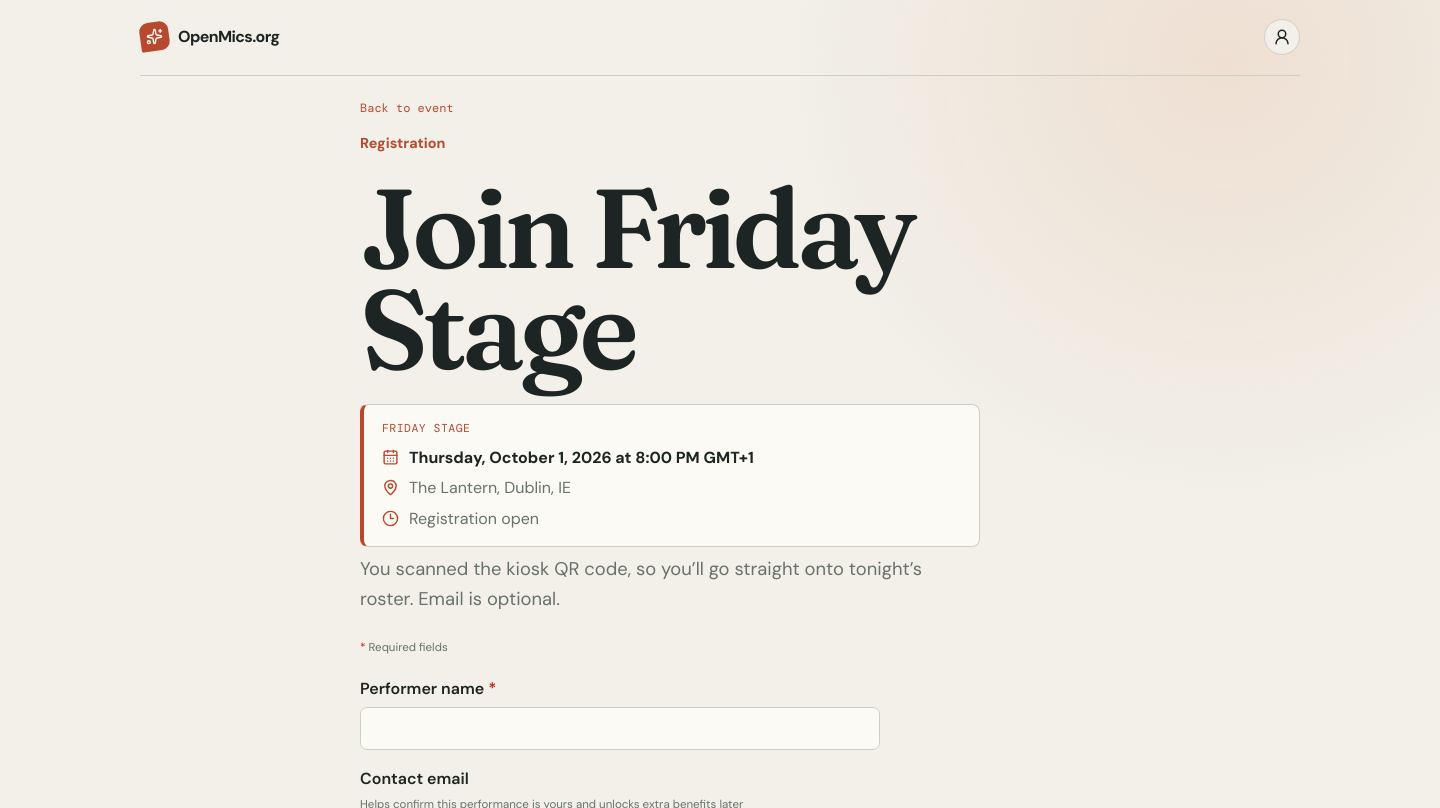
Test: RegistrationPage › accepts an email-less phone sign-up with a kiosk token for an on-the-night-only series
Type "Walk In" into the field labelled "Performer name *".
click(620, 729); type("Walk In")  # box [360,707,880,750]
(page scrolled)
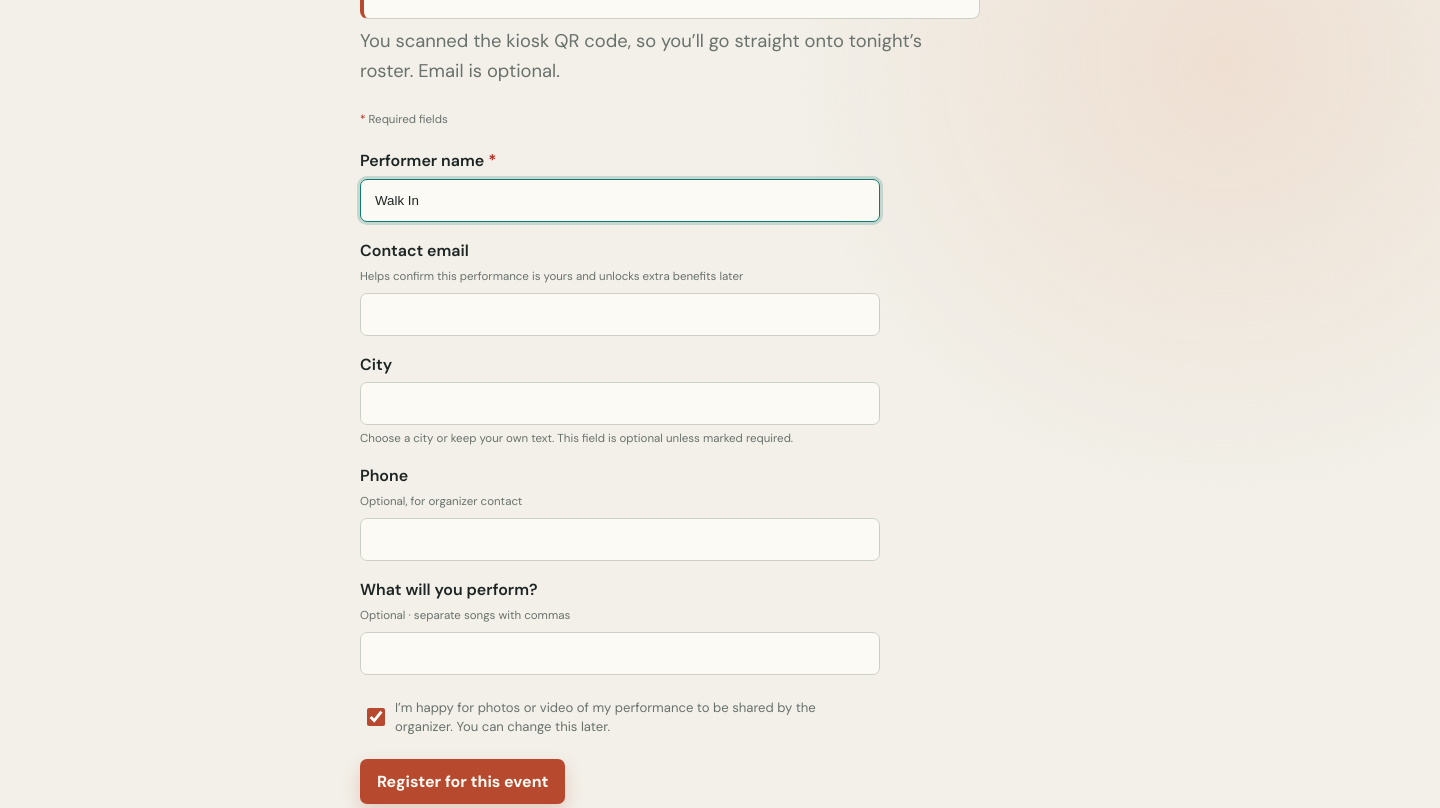
Type "Dub" into the dropdown labelled "City".
click(620, 403); type("Dub")  # box [360,382,880,425]
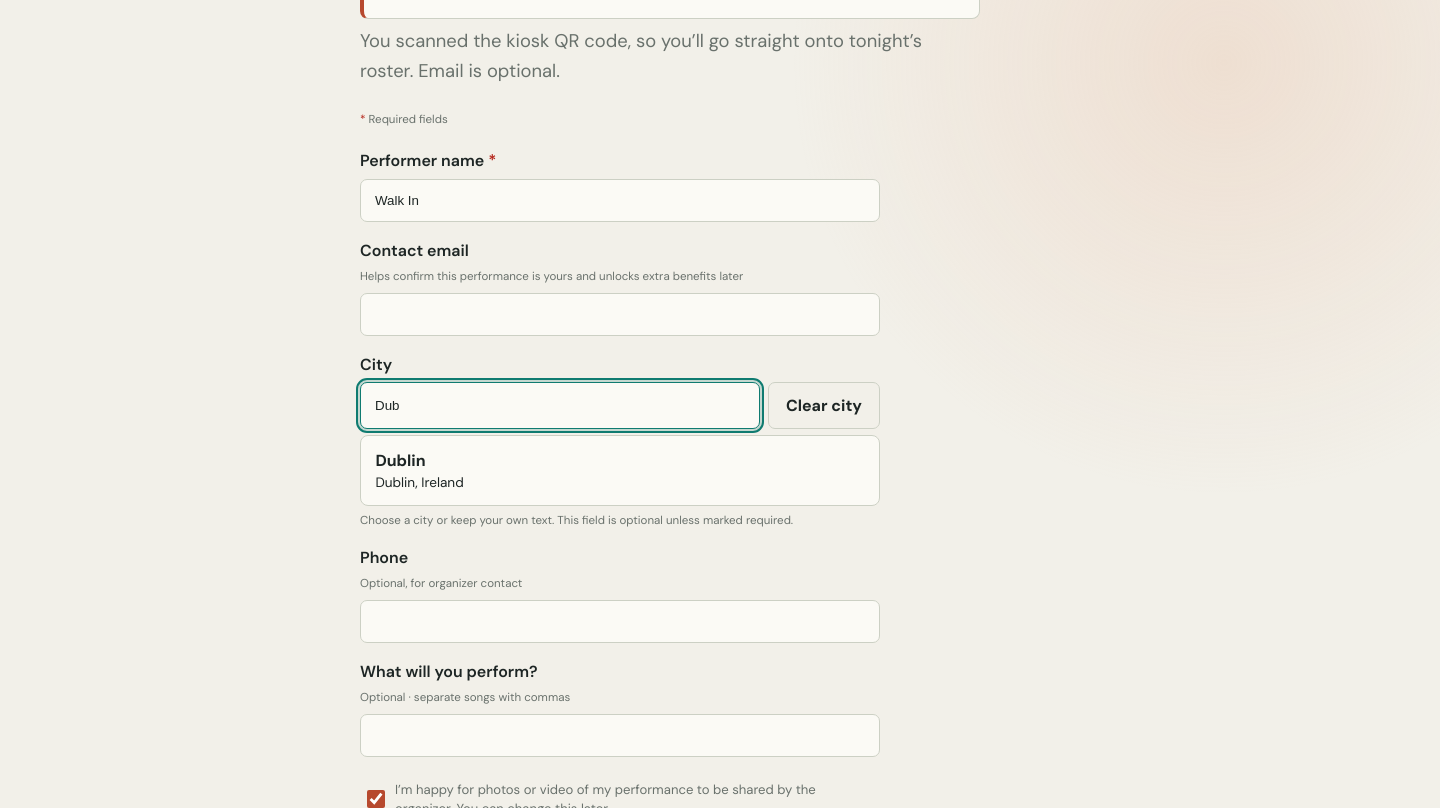
Click the option "Dublin Dublin, Ireland".
click(420, 471)  # box [375,450,464,491]
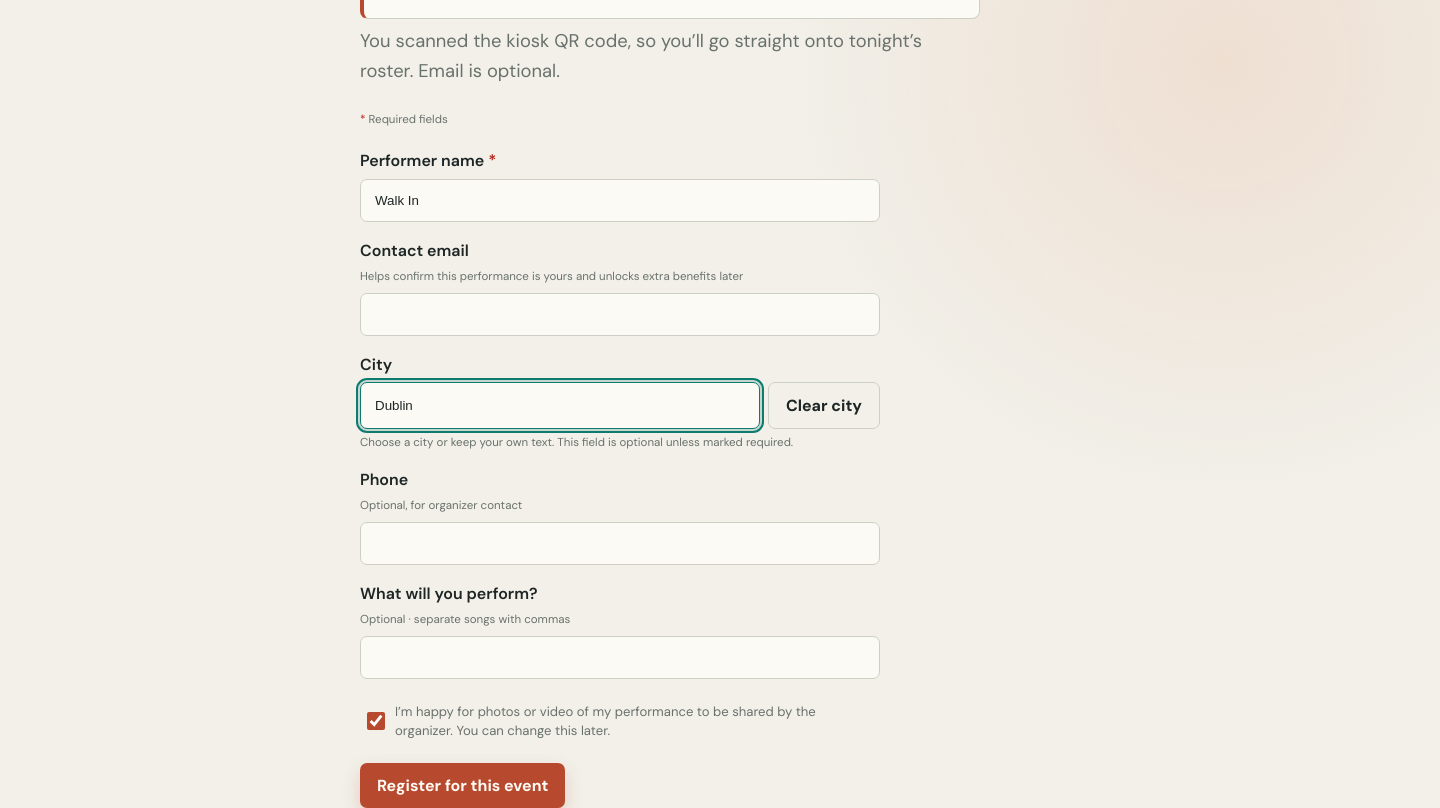
Click the button "Register for this event".
click(463, 786)  # box [360,763,566,807]
(page scrolled)
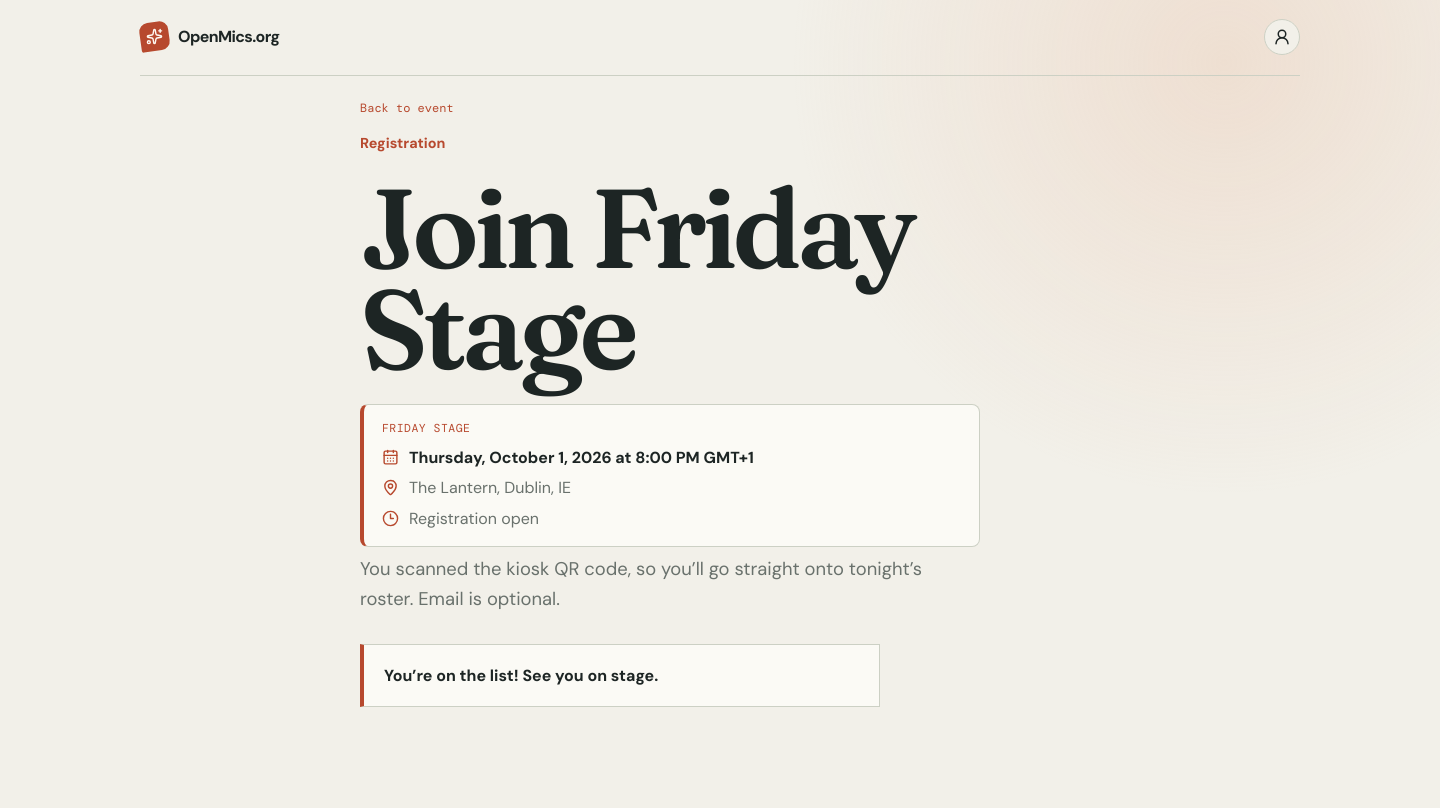
Now the message shows "You’re on the list!", box [384,665,658,686]
